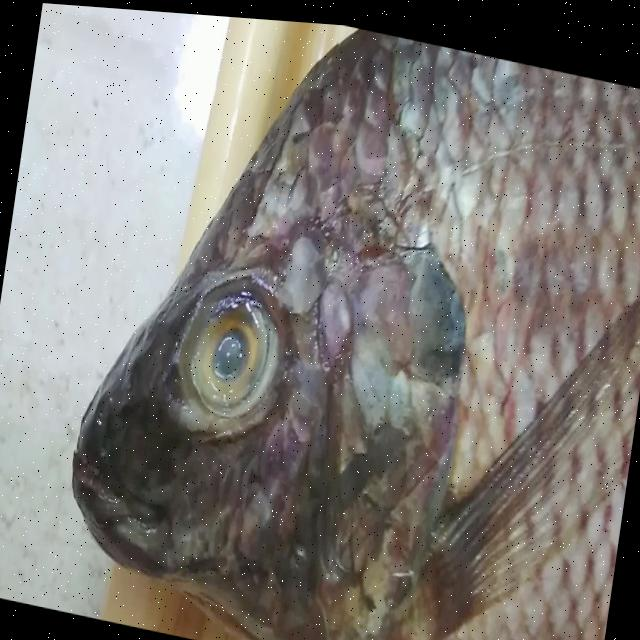Non-Fresh: (289, 37, 640, 640), (166, 269, 290, 433)
